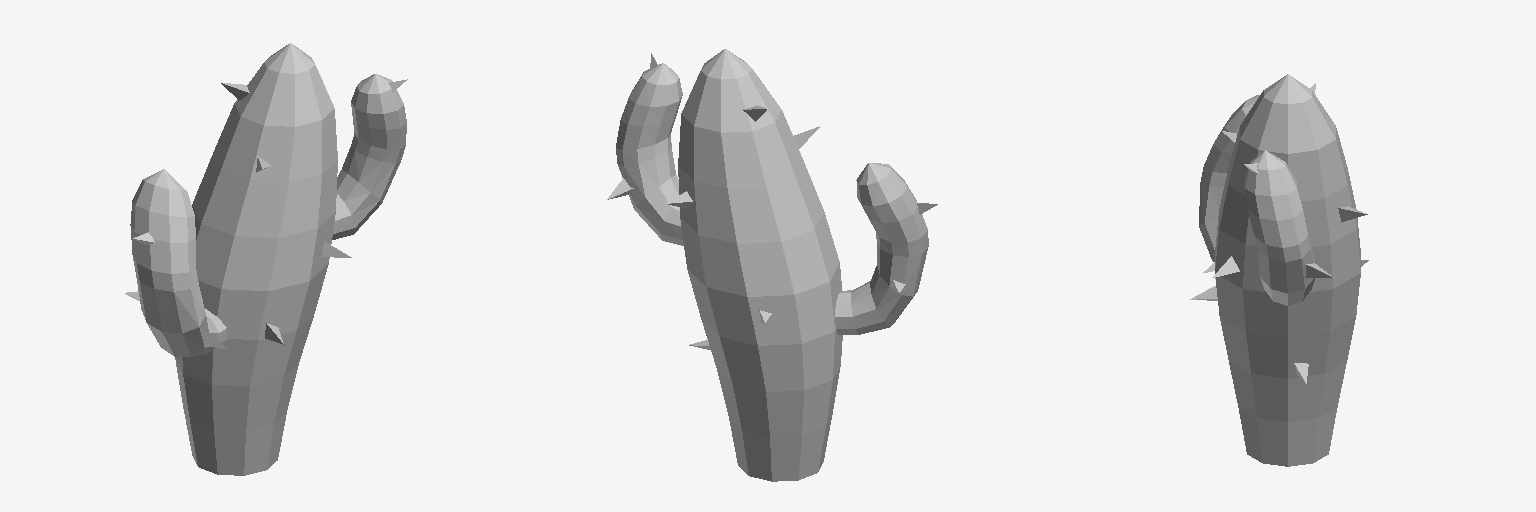
The model's file is cactus2.obj.
3 renders of one model, left to right at view 1: azimuth 30°, elevation 25°; view 2: azimuth 150°, elevation 25°; view 3: azimuth 270°, elevation 25°, orthographic.
Visible parts, largest first — view 1: pCone13; view 2: pCone13; view 3: pCone13.
Boxes of the visible parts, x1=… form: pCone13: x1=125, y1=43, x2=407, y2=475; pCone13: x1=607, y1=49, x2=937, y2=481; pCone13: x1=1190, y1=74, x2=1368, y2=466.
Bounding box in the file's own units: 6.28 × 8.2 × 3.34.